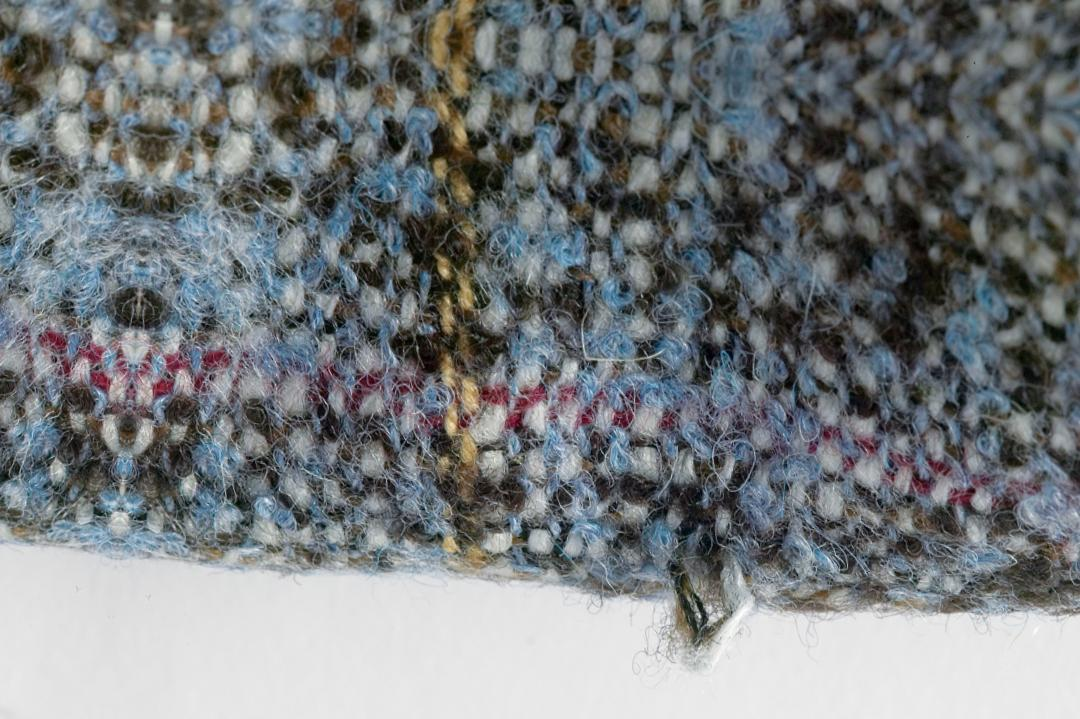snag: (644, 540, 765, 661)
